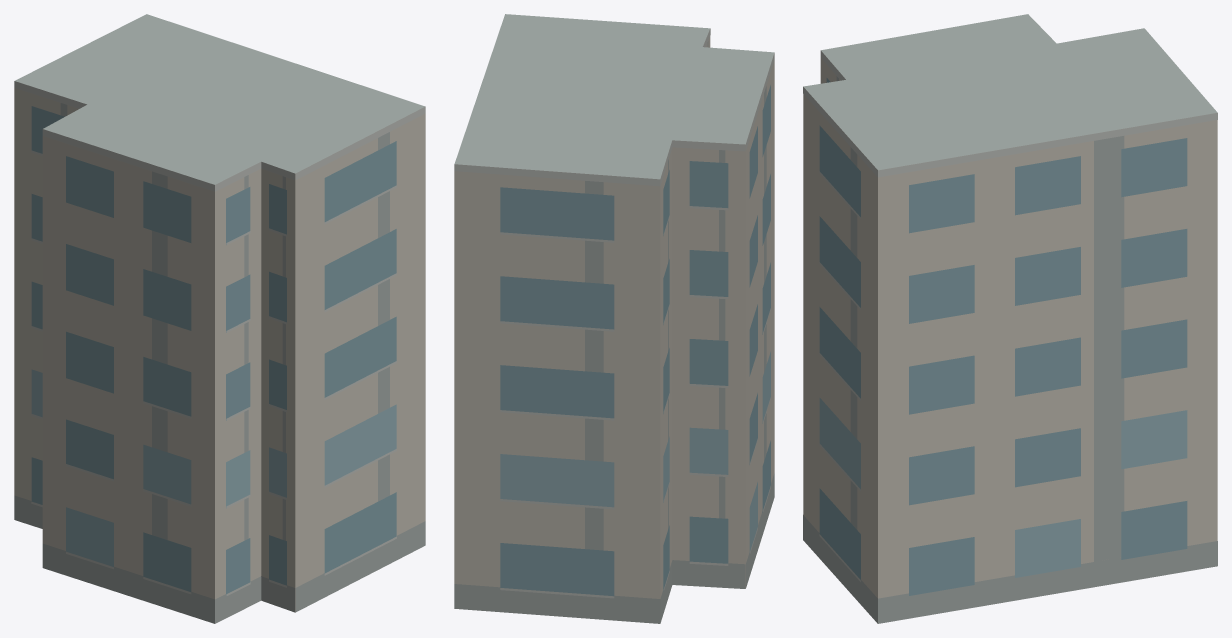
The model's file is survey-upis-32941714.glb.
3 renders of one model, left to right at view 1: azimuth 30°, elevation 25°; view 2: azimuth 150°, elevation 25°; view 3: azimuth 270°, elevation 25°, orthographic. The views are drawn at different scales.
Parts seen in each view (by area): view 1: survey-upis-32941714.tmp; view 2: survey-upis-32941714.tmp; view 3: survey-upis-32941714.tmp.
Part boxes in pixels (box(x1,y1,x2,y2)): survey-upis-32941714.tmp: box(14, 14, 425, 623); survey-upis-32941714.tmp: box(454, 14, 774, 623); survey-upis-32941714.tmp: box(803, 14, 1217, 623).
Bounding box in the file's own units: 11.47 × 15.5 × 12.85.
